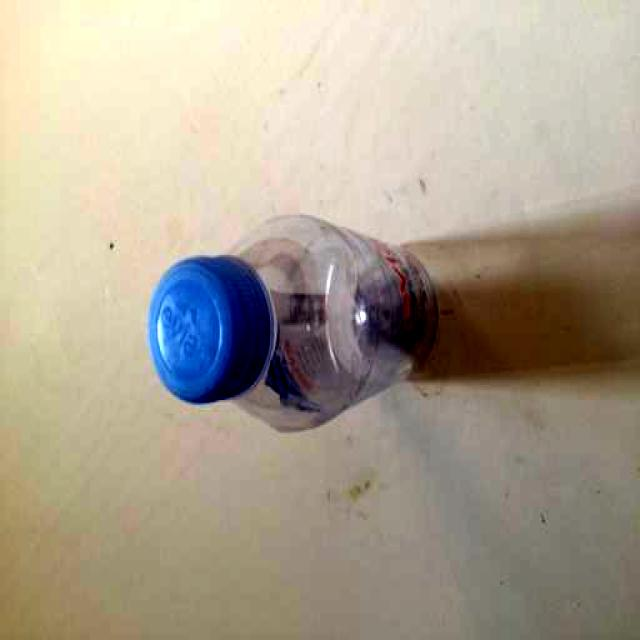Plastic: (148, 206, 443, 442)
